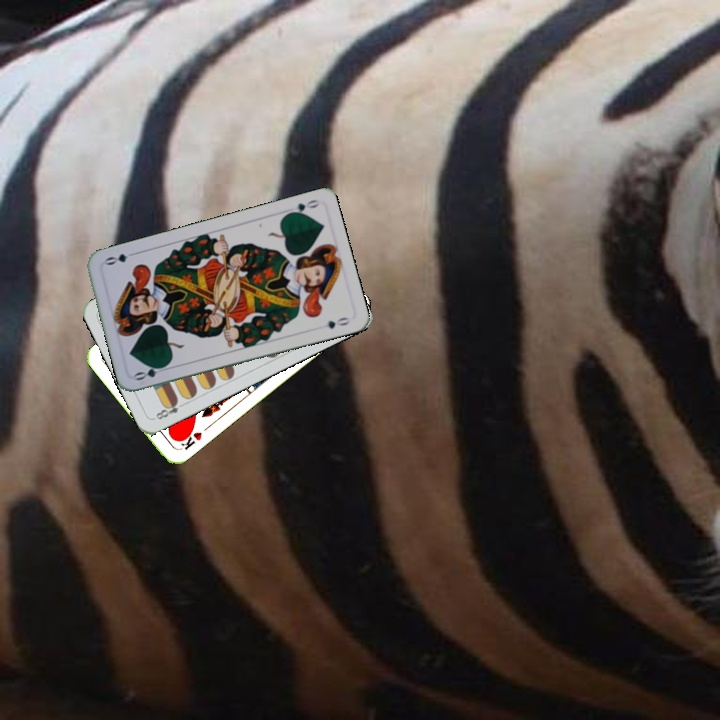E8: (152, 396, 188, 422)
GO: (131, 360, 171, 383), (282, 195, 321, 218)
HK: (174, 425, 204, 453)
